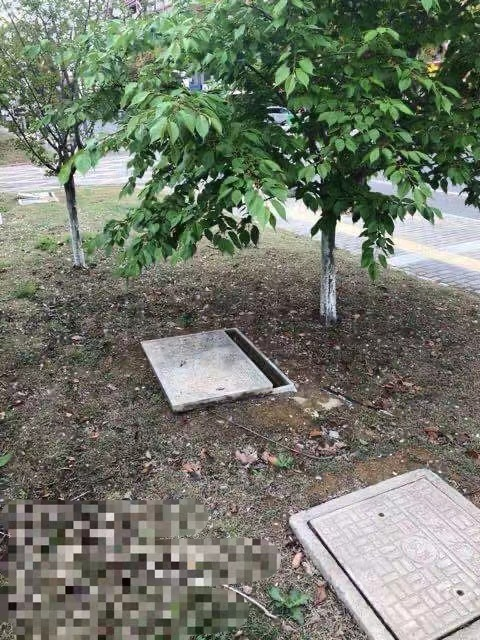well: (290, 466, 480, 639), (139, 327, 299, 414)
